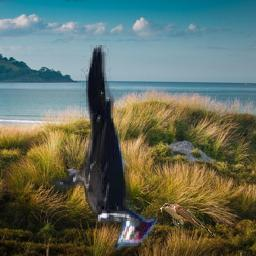Cuckoo: (158, 202, 216, 236)
Woodpecker: (53, 46, 157, 251)
